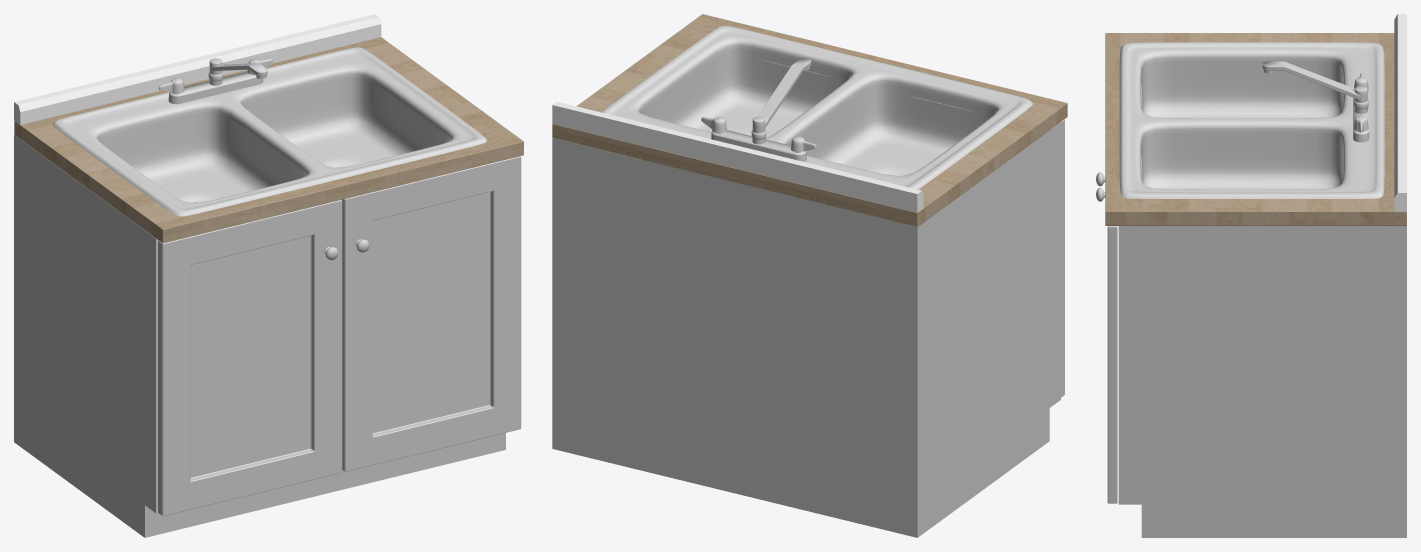
Rendered from frigo.glb.
3 renders of one model, left to right at view 1: azimuth 30°, elevation 25°; view 2: azimuth 150°, elevation 25°; view 3: azimuth 270°, elevation 25°, orthographic.
Visible parts, largest first — view 1: Door-and-Drawers-Right.002_Cube.038, Base-unit-Box-Right.002_Cube.036, Double_sink, Worktop-Right.002_Cube.037, Plane.001_Plane.017, Kitchen_faucet, Kitchen_spigot; view 2: Base-unit-Box-Right.002_Cube.036, Double_sink, Worktop-Right.002_Cube.037, Plane.001_Plane.017, Kitchen_spigot, Kitchen_faucet, Door-and-Drawers-Right.002_Cube.038; view 3: Base-unit-Box-Right.002_Cube.036, Double_sink, Worktop-Right.002_Cube.037, Door-and-Drawers-Right.002_Cube.038, Plane.001_Plane.017, Kitchen_spigot, Kitchen_faucet.
Part boxes in pixels (<box>): Door-and-Drawers-Right.002_Cube.038: <box>158,156,521,516</box>; Base-unit-Box-Right.002_Cube.036: <box>14,134,505,537</box>; Double_sink: <box>52,47,486,216</box>; Worktop-Right.002_Cube.037: <box>14,37,523,243</box>; Plane.001_Plane.017: <box>14,14,381,124</box>; Kitchen_faucet: <box>168,71,263,104</box>; Kitchen_spigot: <box>208,58,267,85</box>; Base-unit-Box-Right.002_Cube.036: <box>552,61,1060,537</box>; Double_sink: <box>601,25,1032,224</box>; Worktop-Right.002_Cube.037: <box>552,14,1067,226</box>; Plane.001_Plane.017: <box>552,101,923,212</box>; Kitchen_spigot: <box>751,58,811,144</box>; Kitchen_faucet: <box>711,130,806,161</box>; Door-and-Drawers-Right.002_Cube.038: <box>1061,119,1064,397</box>; Base-unit-Box-Right.002_Cube.036: <box>1118,83,1406,537</box>; Double_sink: <box>1119,42,1384,198</box>; Worktop-Right.002_Cube.037: <box>1105,33,1406,225</box>; Door-and-Drawers-Right.002_Cube.038: <box>1107,226,1117,503</box>; Plane.001_Plane.017: <box>1394,14,1406,211</box>; Kitchen_spigot: <box>1262,61,1368,113</box>; Kitchen_faucet: <box>1353,91,1369,142</box>.
Bounding box in the file's own units: 97.59 × 97.63 × 71.69.
Materials: 7 (1 with a texture image).
